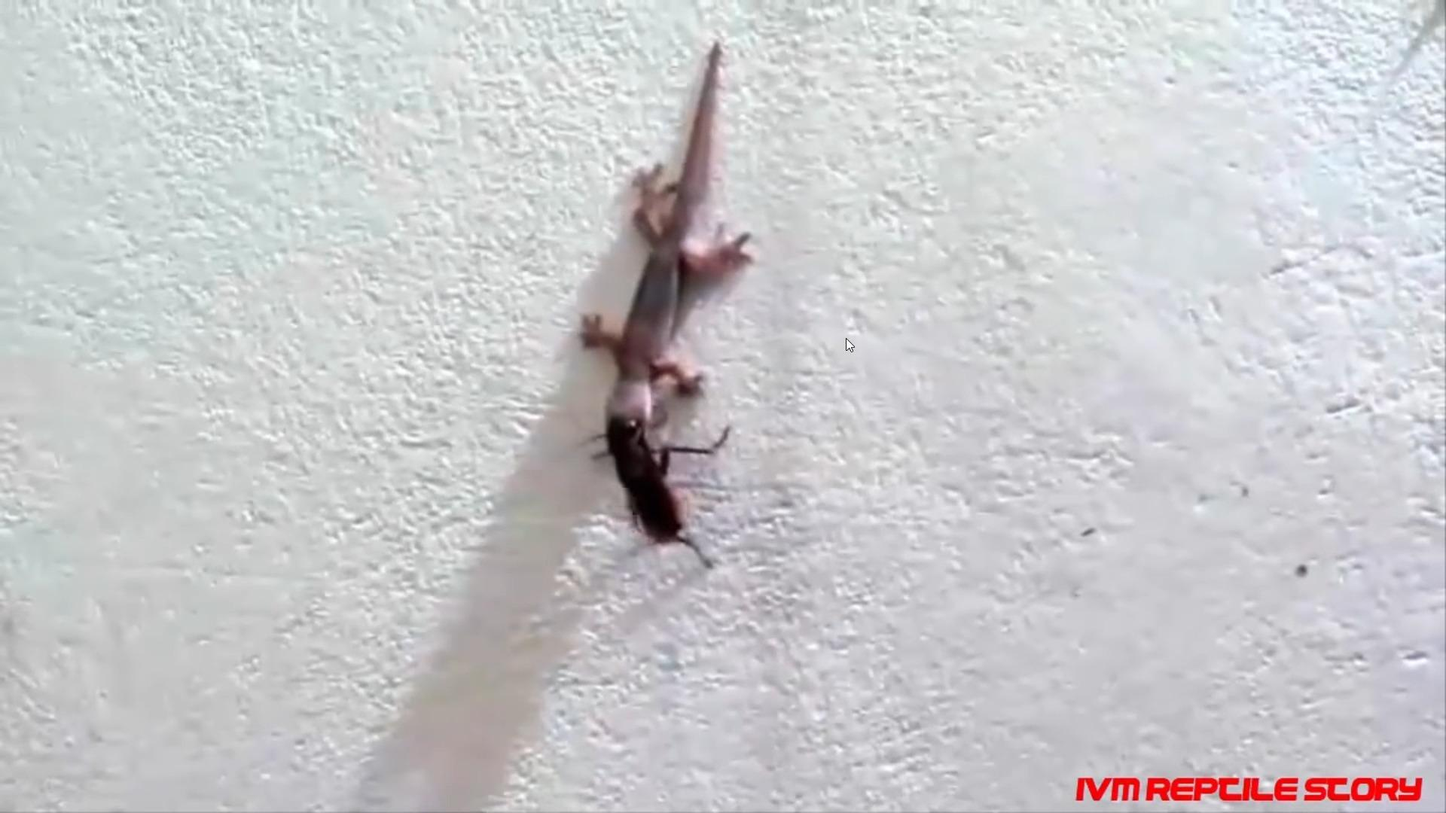cockroach: (586, 417, 695, 556)
lizard: (560, 64, 775, 429)
